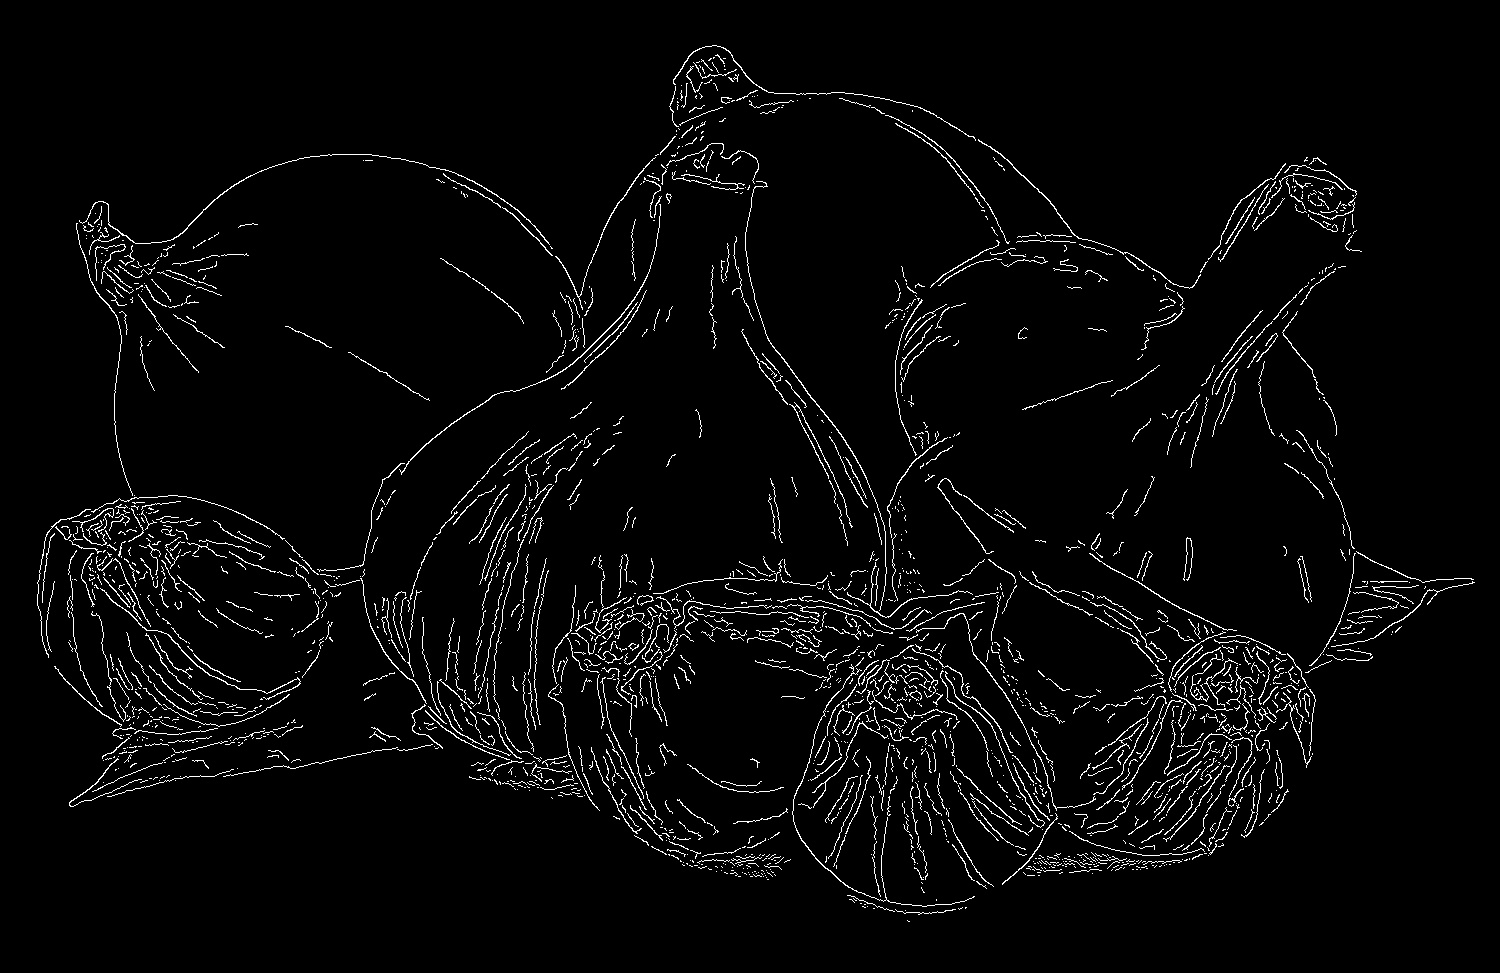onion: (363, 140, 910, 736), (37, 110, 567, 616), (581, 13, 1038, 483)
